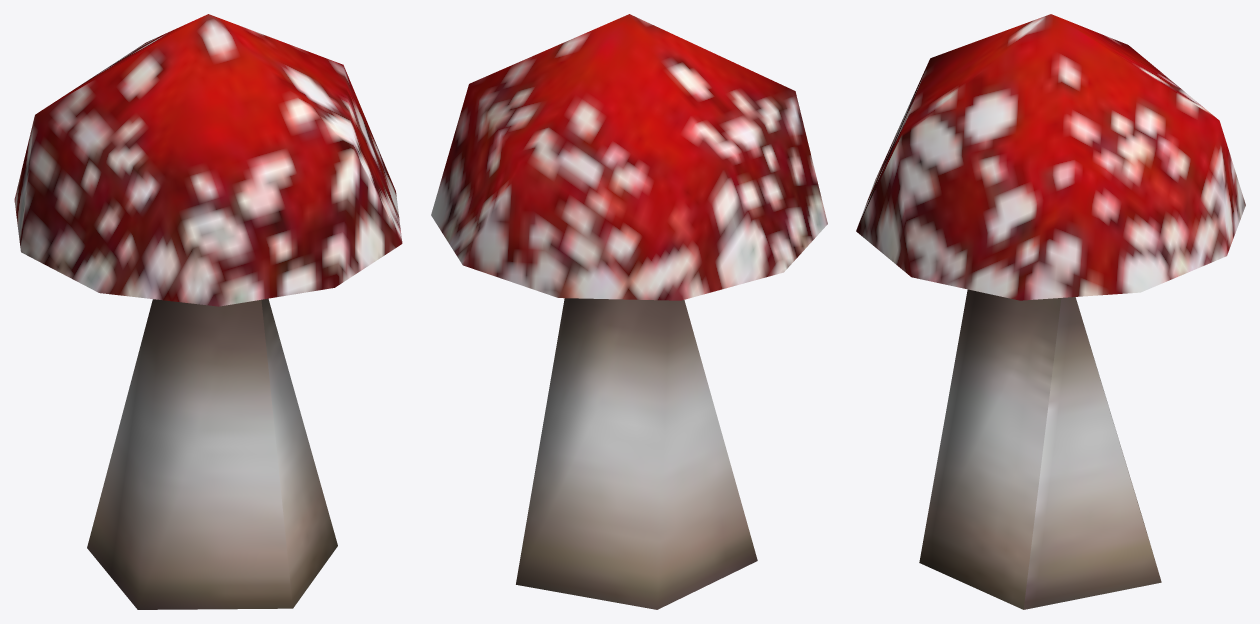
The model's file is mushroom3.glb.
3 views of the same model, side by side, from view 1: azimuth 30°, elevation 25°; view 2: azimuth 150°, elevation 25°; view 3: azimuth 270°, elevation 25° (orthographic).
Size of the model in its own units: 9.69 by 14.81 by 9.69.
Materials: 1 (1 with a texture image).
